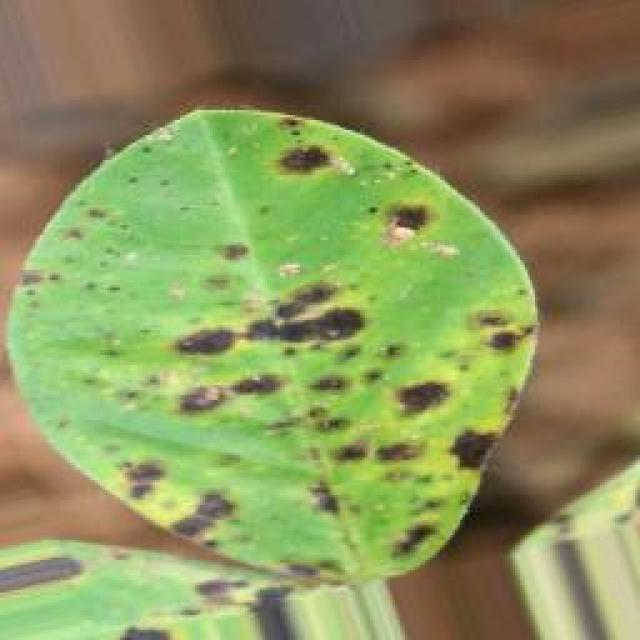Yellowish: (0, 107, 549, 624)
